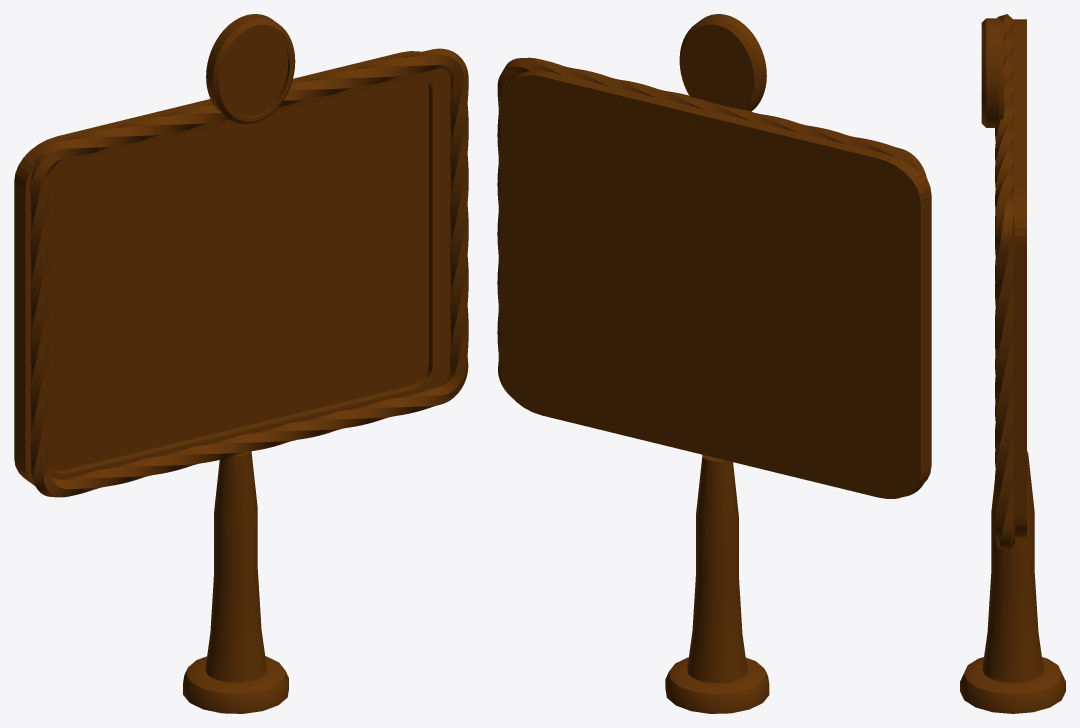
The model's file is cartel.obj.
3 renders of one model, left to right at view 1: azimuth 30°, elevation 25°; view 2: azimuth 150°, elevation 25°; view 3: azimuth 270°, elevation 25°, orthographic. The views are drawn at different scales.
Visible parts, largest first — view 1: Connect; view 2: Connect; view 3: Connect.
Part boxes in pixels (left/top/right/bottom): Connect: left=14, top=14, right=468, bottom=713; Connect: left=497, top=14, right=931, bottom=713; Connect: left=960, top=14, right=1065, bottom=713.
Size of the model in its own units: 0.589 by 0.8668 by 0.1236.
